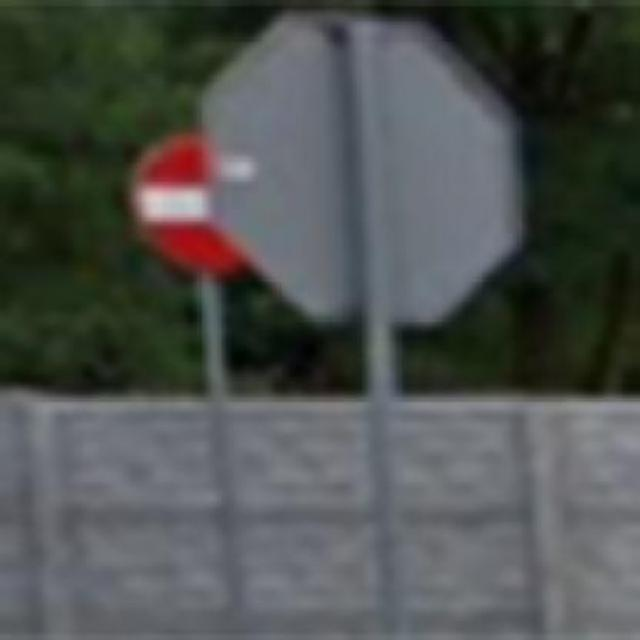Zakaz wjazdu: (127, 132, 250, 276)
